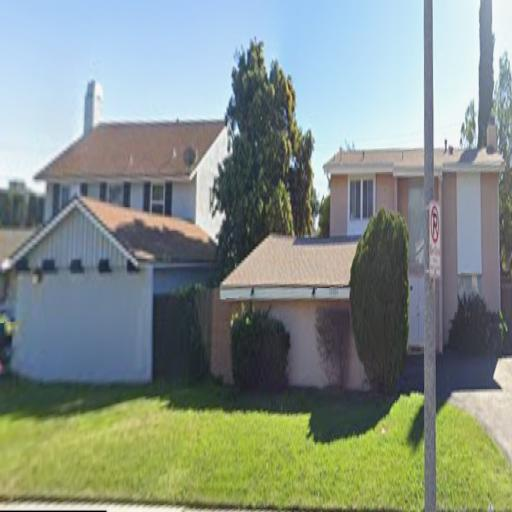poste: (421, 2, 438, 504)
